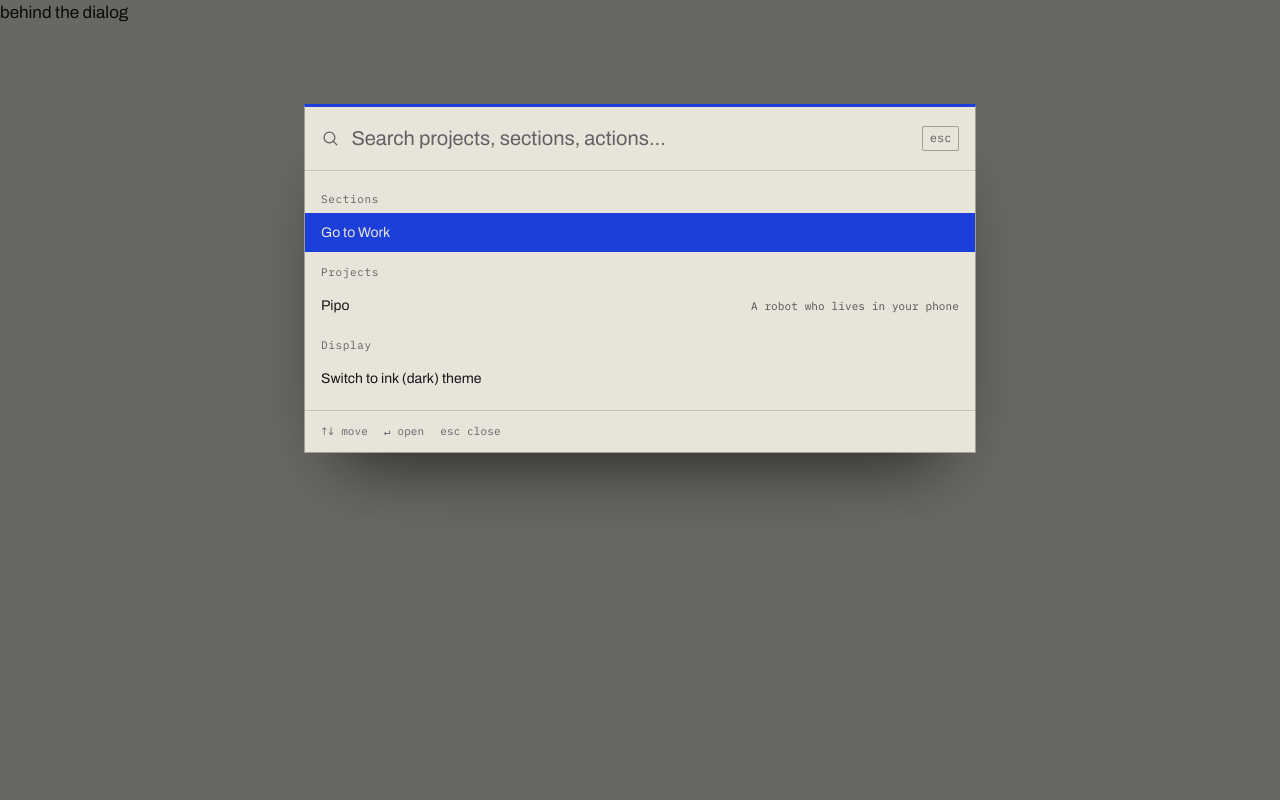
Test: command palette › filters as you type and reports the result count
In the dropdown: (631, 138) [351,123,910,154], type "theme"
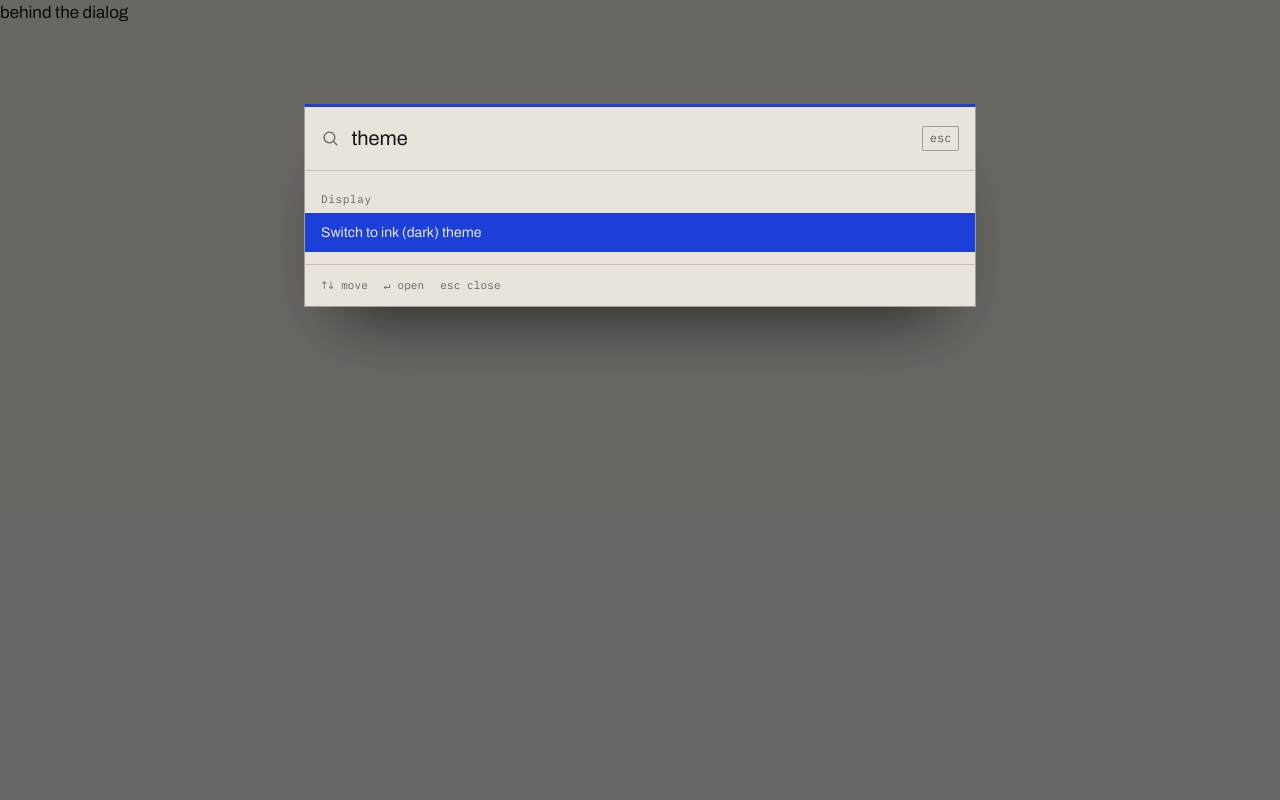
Expected: the option "Switch to ink (dark) theme" is shown, [305,213,975,252]
Expected: the option "Pipo" is gone
In the dropdown: (631, 138) [351,123,910,154], type "-nothing-matches"
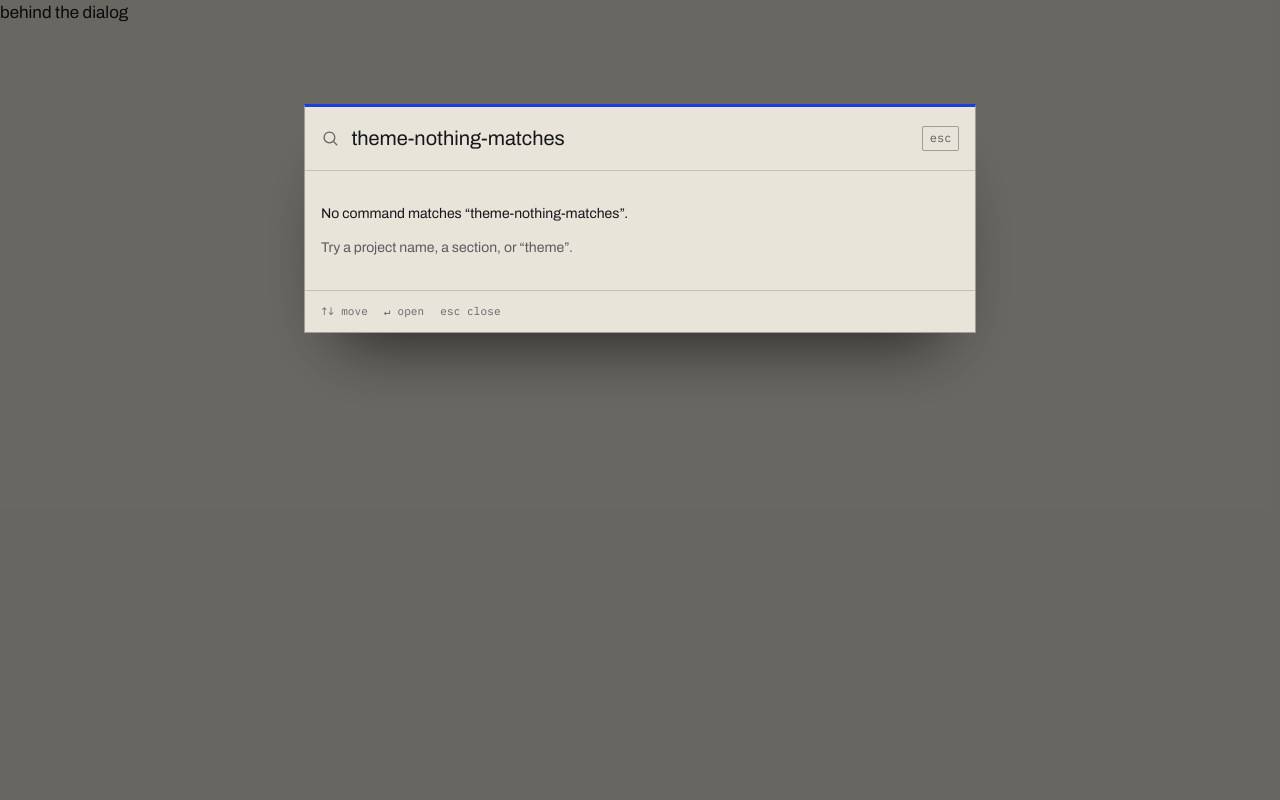
Expected: the text "No command matches “theme-nothing-matches”." is shown, [321,206,628,221]
